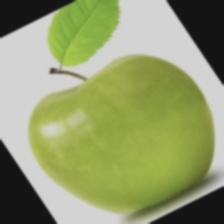apple: (41, 48, 216, 185)
